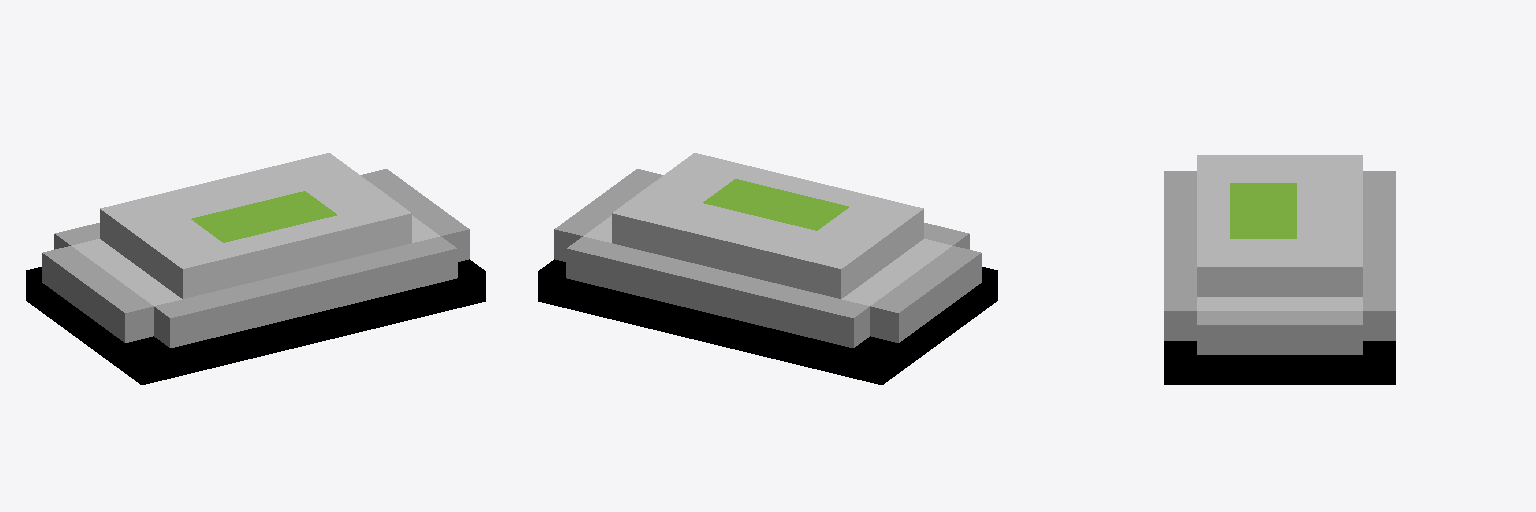
3 views of the same model, side by side, from view 1: azimuth 30°, elevation 25°; view 2: azimuth 150°, elevation 25°; view 3: azimuth 270°, elevation 25° (orthographic).
Parts seen in each view (by area): view 1: object 1; view 2: object 1; view 3: object 1.
Part boxes in pixels (x1,y1,x2,y2): object 1: (26, 153, 485, 384); object 1: (538, 153, 997, 384); object 1: (1164, 155, 1395, 384).
Size of the model in its own units: 1.2 by 0.3 by 0.7.
Materials: 1 (1 with a texture image).